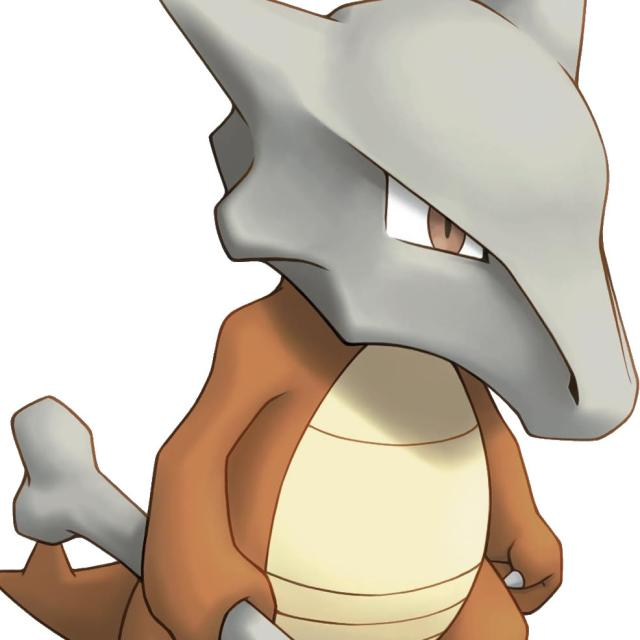Marowak: (135, 0, 627, 636)
